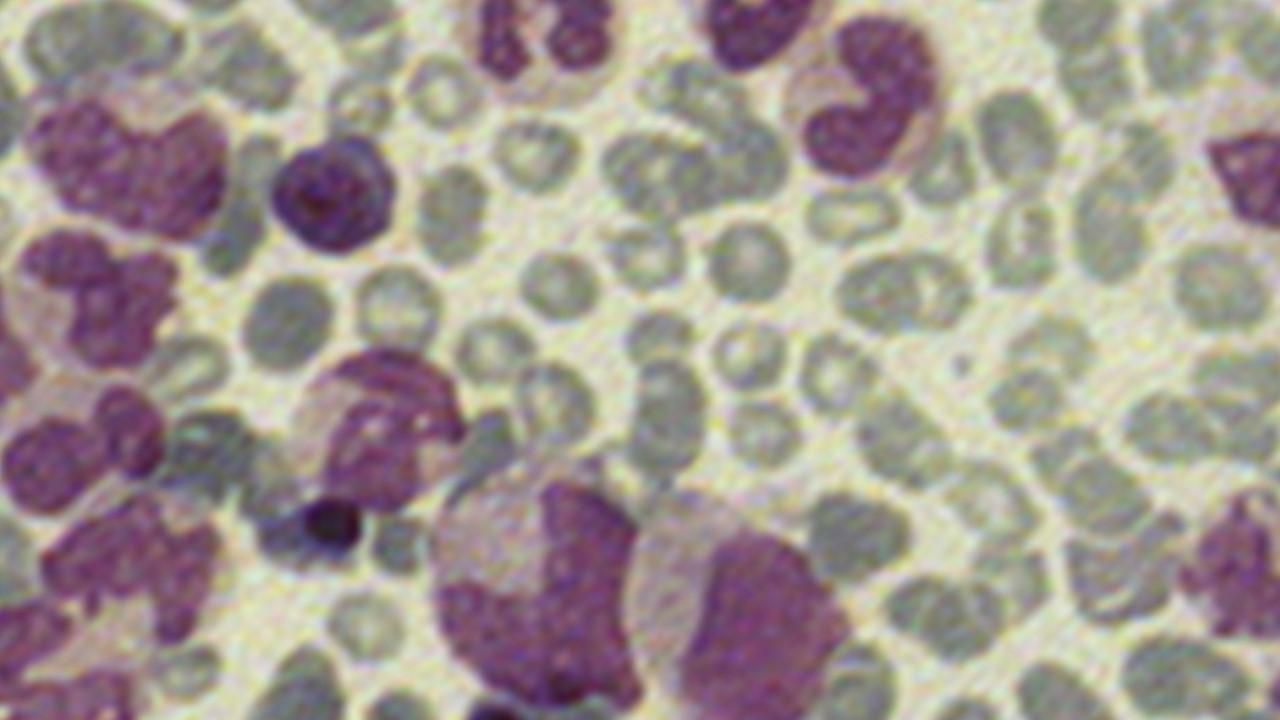RBC: (702, 212, 796, 312)
